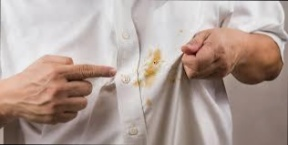coffee: (141, 47, 161, 87)
